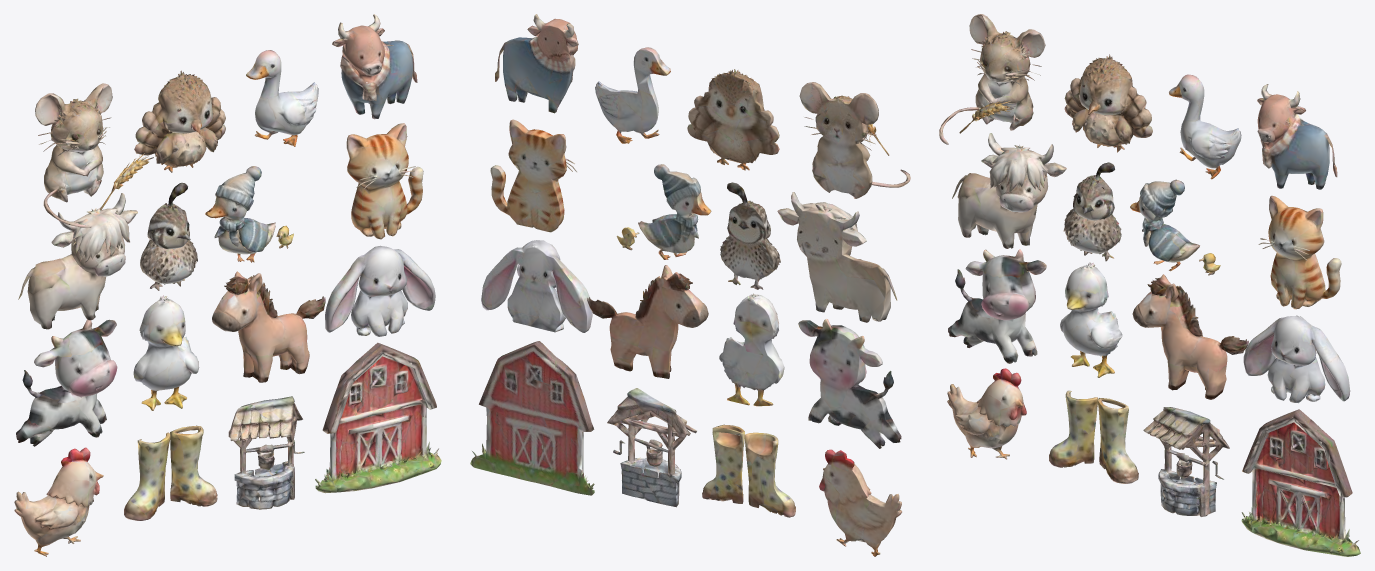
3 views of the same model, side by side, from view 1: azimuth 30°, elevation 25°; view 2: azimuth 150°, elevation 25°; view 3: azimuth 330°, elevation 25° (orthographic). The views are drawn at different scales.
Visible parts, largest first — view 1: Mesh 19, Mesh 3, Mesh 2, Mesh 6, Mesh 21, Mesh 13, Mesh 24, Mesh 9, Mesh 14, Mesh 23, Mesh 7, Mesh 1 (+4 smaller); view 2: Mesh 19, Mesh 3, Mesh 2, Mesh 21, Mesh 13, Mesh 6, Mesh 9, Mesh 24, Mesh 14, Mesh 23, Mesh 7, Mesh 8 (+4 smaller); view 3: Mesh 19, Mesh 3, Mesh 2, Mesh 21, Mesh 13, Mesh 6, Mesh 24, Mesh 9, Mesh 14, Mesh 23, Mesh 7, Mesh 8 (+4 smaller).
Part boxes in pixels (bbox=[...]): Mesh 19: bbox=[315, 342, 441, 493]; Mesh 3: bbox=[18, 193, 137, 329]; Mesh 2: bbox=[16, 319, 117, 446]; Mesh 6: bbox=[35, 83, 153, 227]; Mesh 21: bbox=[325, 245, 435, 336]; Mesh 13: bbox=[212, 271, 325, 382]; Mesh 24: bbox=[346, 123, 423, 239]; Mesh 9: bbox=[134, 70, 225, 172]; Mesh 14: bbox=[228, 396, 304, 509]; Mesh 23: bbox=[332, 14, 417, 119]; Mesh 7: bbox=[124, 425, 217, 520]; Mesh 1: bbox=[14, 447, 103, 556]; Mesh 19: bbox=[470, 341, 594, 495]; Mesh 3: bbox=[777, 192, 897, 322]; Mesh 2: bbox=[798, 319, 901, 448]; Mesh 21: bbox=[481, 240, 592, 332]; Mesh 13: bbox=[587, 265, 708, 378]; Mesh 6: bbox=[799, 82, 910, 198]; Mesh 9: bbox=[687, 69, 779, 170]; Mesh 24: bbox=[490, 119, 576, 232]; Mesh 14: bbox=[607, 388, 696, 507]; Mesh 23: bbox=[495, 14, 578, 113]; Mesh 7: bbox=[702, 424, 795, 517]; Mesh 8: bbox=[719, 293, 784, 406]; Mesh 19: bbox=[1241, 409, 1360, 556]; Mesh 3: bbox=[952, 133, 1066, 248]; Mesh 2: bbox=[948, 249, 1046, 363]; Mesh 21: bbox=[1243, 315, 1350, 403]; Mesh 13: bbox=[1132, 274, 1248, 399]; Mesh 6: bbox=[939, 14, 1045, 144]; Mesh 24: bbox=[1258, 195, 1341, 309]; Mesh 9: bbox=[1064, 54, 1152, 152]; Mesh 14: bbox=[1143, 407, 1229, 516]; Mesh 23: bbox=[1257, 84, 1337, 189]; Mesh 7: bbox=[1049, 390, 1138, 483]; Mesh 8: bbox=[1060, 262, 1122, 377].
Bounding box in the file's own units: 1.82 × 1.9 × 0.3084.
Materials: 18 (18 with a texture image).
